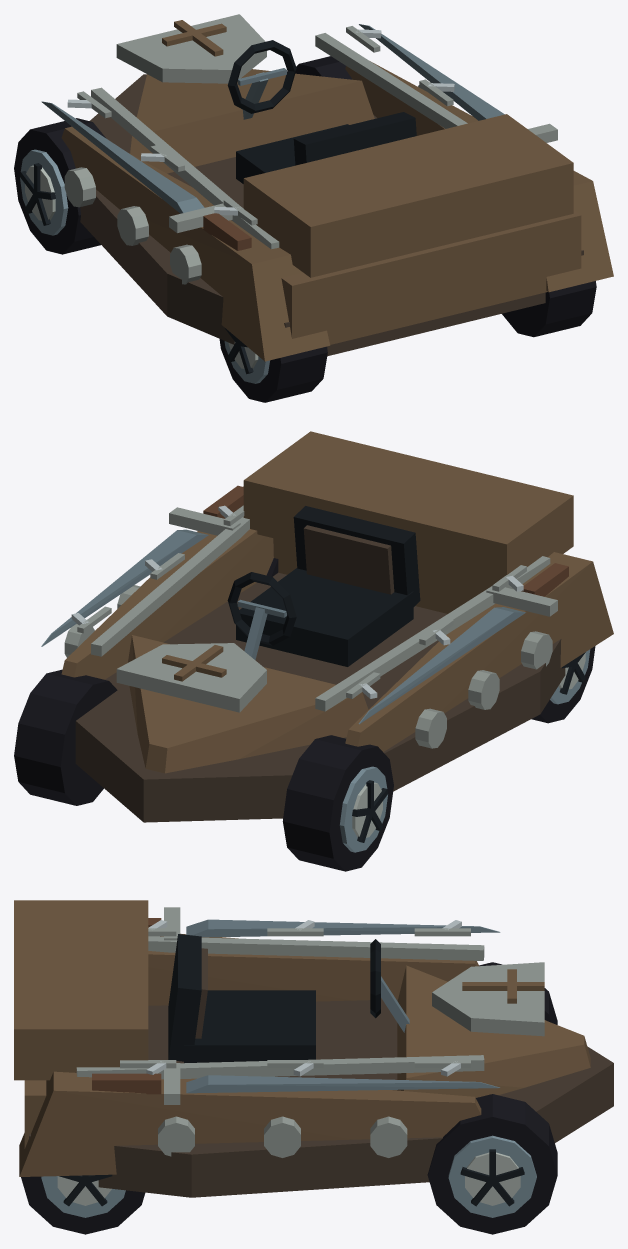
File: kart.glb
3 views of the same model, one above another, from view 1: azimuth 30°, elevation 25°; view 2: azimuth 150°, elevation 25°; view 3: azimuth 270°, elevation 25° (orthographic).
Parts seen in each view (by area): view 1: identity-ship-ship-pointed-bow-and-raised-stern, identity-ship-driver-cockpit, identity-ship-motif-shield, identity-ship-motif-swords, wheel-front-left, wheel-rear-left, wheel-rear-right, identity-ship-motif-runes, wheel-front-right; view 2: identity-ship-ship-pointed-bow-and-raised-stern, identity-ship-driver-cockpit, wheel-front-left, identity-ship-motif-swords, wheel-front-right, identity-ship-motif-shield, identity-ship-motif-runes, wheel-rear-left; view 3: identity-ship-ship-pointed-bow-and-raised-stern, identity-ship-driver-cockpit, wheel-front-right, identity-ship-motif-swords, identity-ship-motif-shield, wheel-rear-right, identity-ship-motif-runes.
Part boxes in pixels (x1=…): identity-ship-ship-pointed-bow-and-raised-stern: x1=61, y1=33, x2=613, y2=361; identity-ship-driver-cockpit: x1=227, y1=40, x2=416, y2=183; identity-ship-motif-shield: x1=116, y1=14, x2=266, y2=83; identity-ship-motif-swords: x1=41, y1=24, x2=557, y2=250; wheel-front-left: x1=14, y1=118, x2=106, y2=254; wheel-rear-left: x1=219, y1=328, x2=327, y2=402; wheel-rear-right: x1=502, y1=281, x2=596, y2=337; identity-ship-motif-runes: x1=67, y1=26, x2=454, y2=225; wheel-front-right: x1=295, y1=56, x2=352, y2=79; identity-ship-ship-pointed-bow-and-raised-stern: x1=61, y1=431, x2=613, y2=822; identity-ship-driver-cockpit: x1=227, y1=506, x2=420, y2=666; wheel-front-left: x1=282, y1=735, x2=393, y2=871; identity-ship-motif-swords: x1=41, y1=485, x2=568, y2=724; wheel-front-right: x1=14, y1=669, x2=117, y2=805; identity-ship-motif-shield: x1=116, y1=643, x2=266, y2=712; identity-ship-motif-runes: x1=71, y1=505, x2=526, y2=698; wheel-rear-left: x1=531, y1=646, x2=595, y2=723; identity-ship-ship-pointed-bow-and-raised-stern: x1=14, y1=900, x2=613, y2=1197; identity-ship-driver-cockpit: x1=168, y1=934, x2=409, y2=1063; wheel-front-right: x1=427, y1=1094, x2=557, y2=1234; identity-ship-motif-swords: x1=92, y1=907, x2=500, y2=1104; identity-ship-motif-shield: x1=432, y1=962, x2=544, y2=1036; wheel-rear-right: x1=21, y1=1174, x2=145, y2=1234; identity-ship-motif-runes: x1=120, y1=920, x2=470, y2=1076.
Size of the model in its own units: 2.04 by 1.09 by 2.77.
